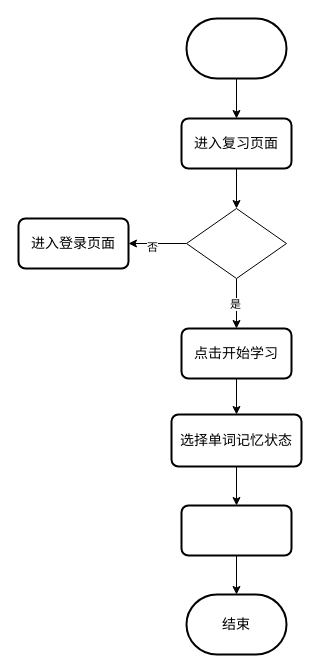
This 319x672 diagram has some shape labels left out. The shapes that lost their labels are listed below. From the top down, each one's centre as x and y in pixels, then its label:
At point (236, 48): "开始".
At point (236, 243): "是否已登录".
At point (236, 530): "完成学习".
